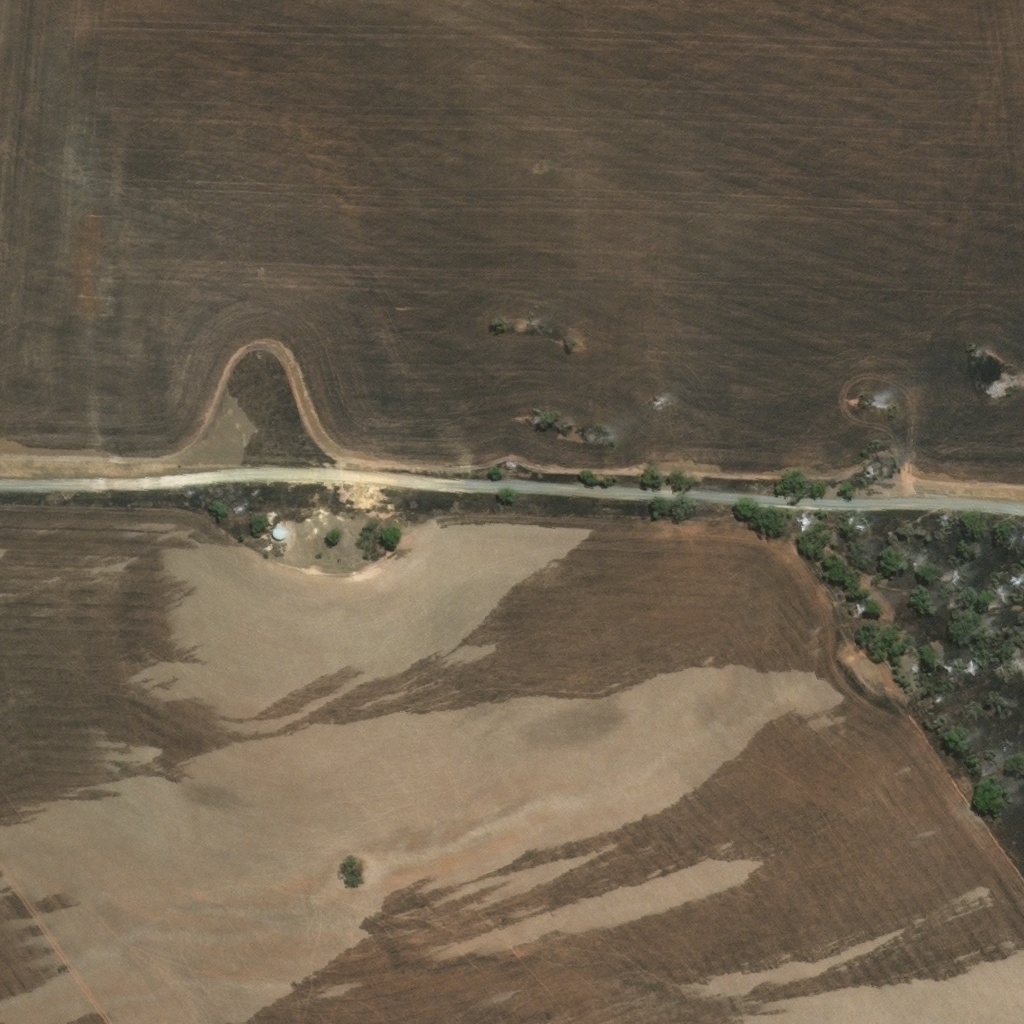0 no-damage: (273, 521, 289, 537)
